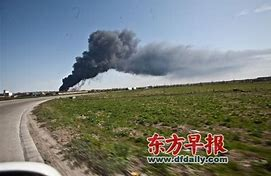smoke: (58, 27, 163, 90)
